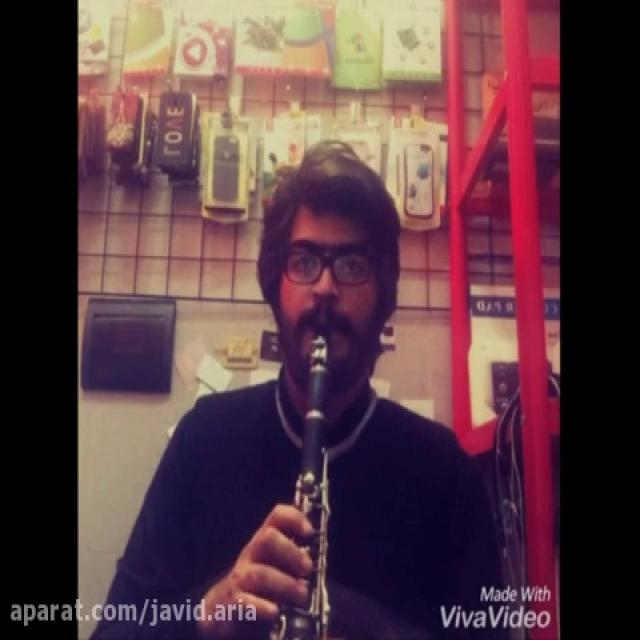Clarinet: (267, 330, 338, 638)
